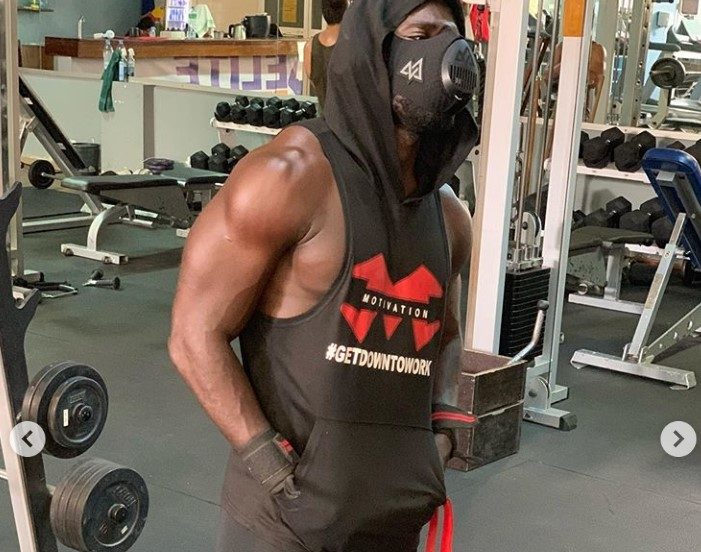face_with_mask: (349, 5, 487, 142)
